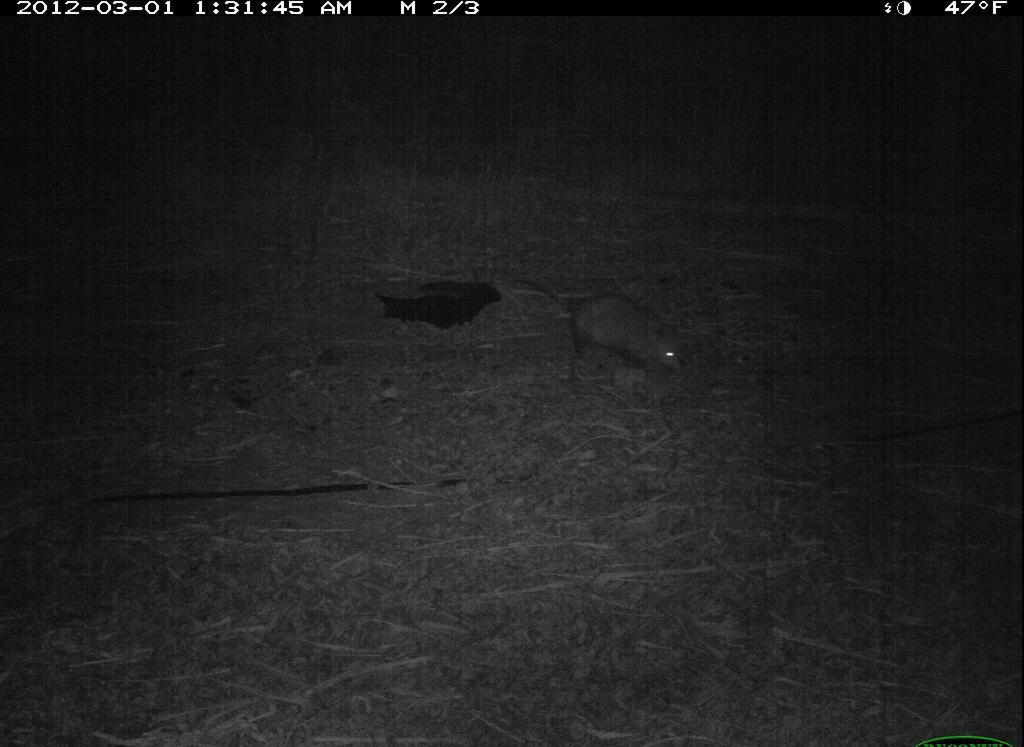opossum: (511, 248, 696, 386)
